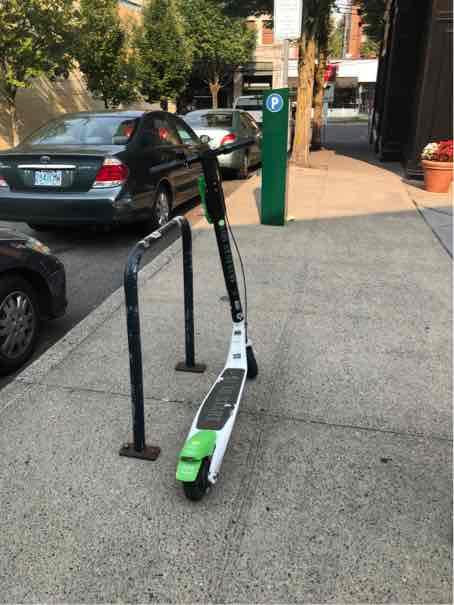scooter: (134, 129, 284, 504)
